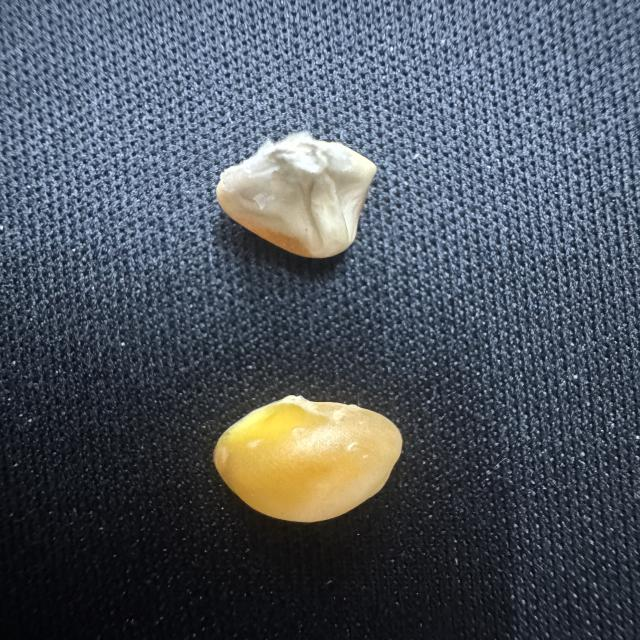Bad-Seed: (189, 122, 392, 290), (213, 381, 414, 530)
